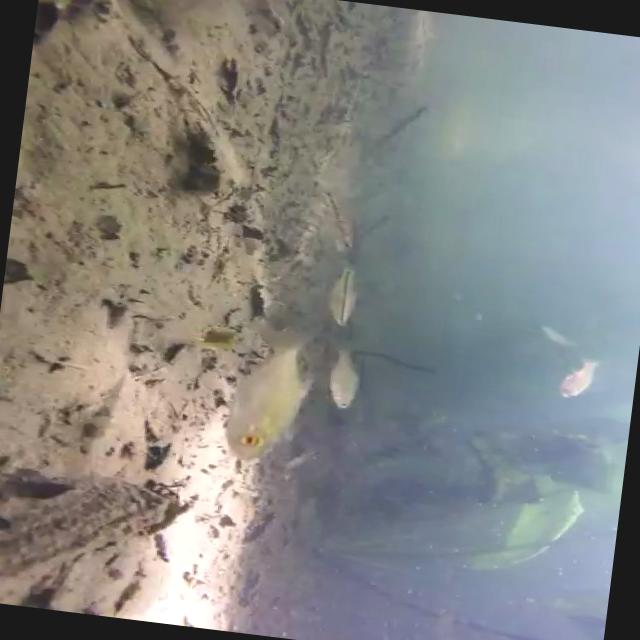Cakil Baligi: (214, 296, 326, 466)
